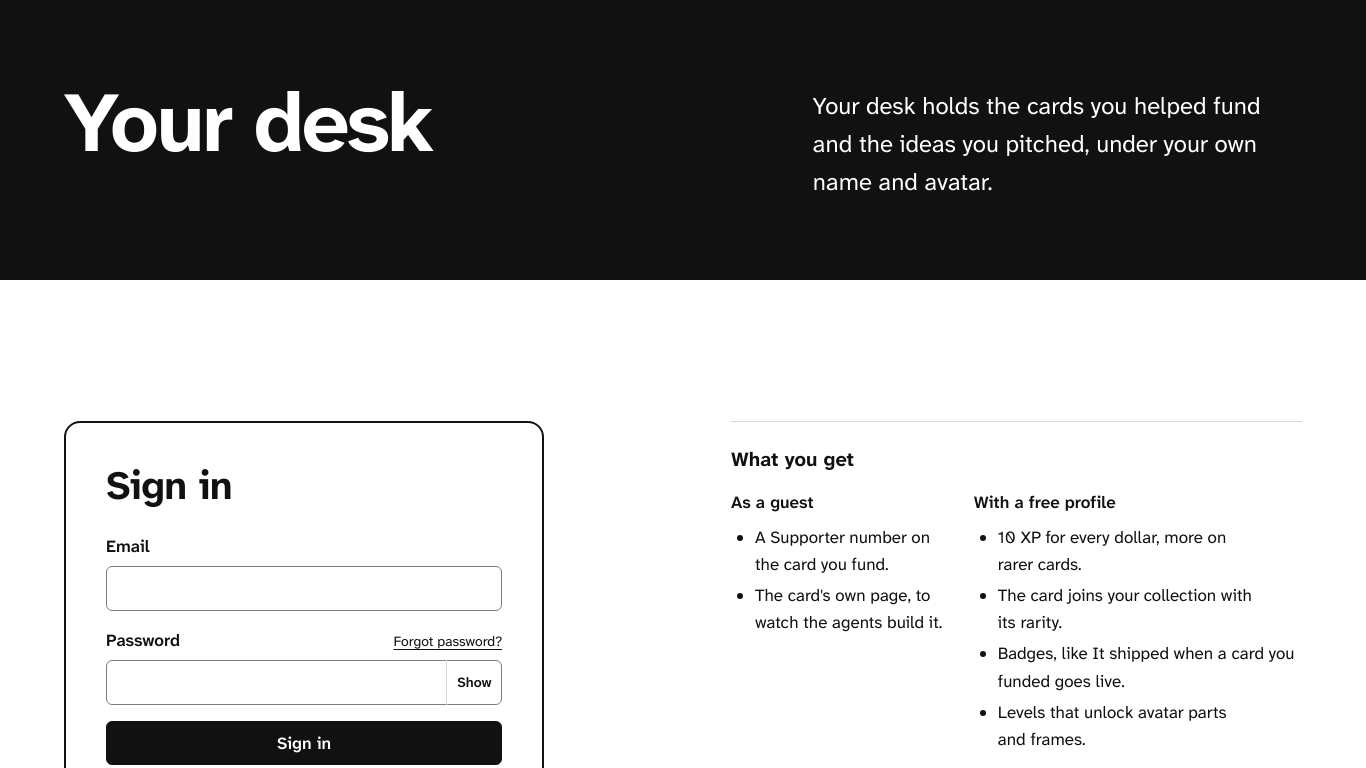
/me › says to wait a minute when sign-in emails are rate limited
The image size is (1366, 768).
In the field labelled "Email": (304, 588) x1=106 y1=566 x2=502 y2=611, type "player@example.com"
(page scrolled)
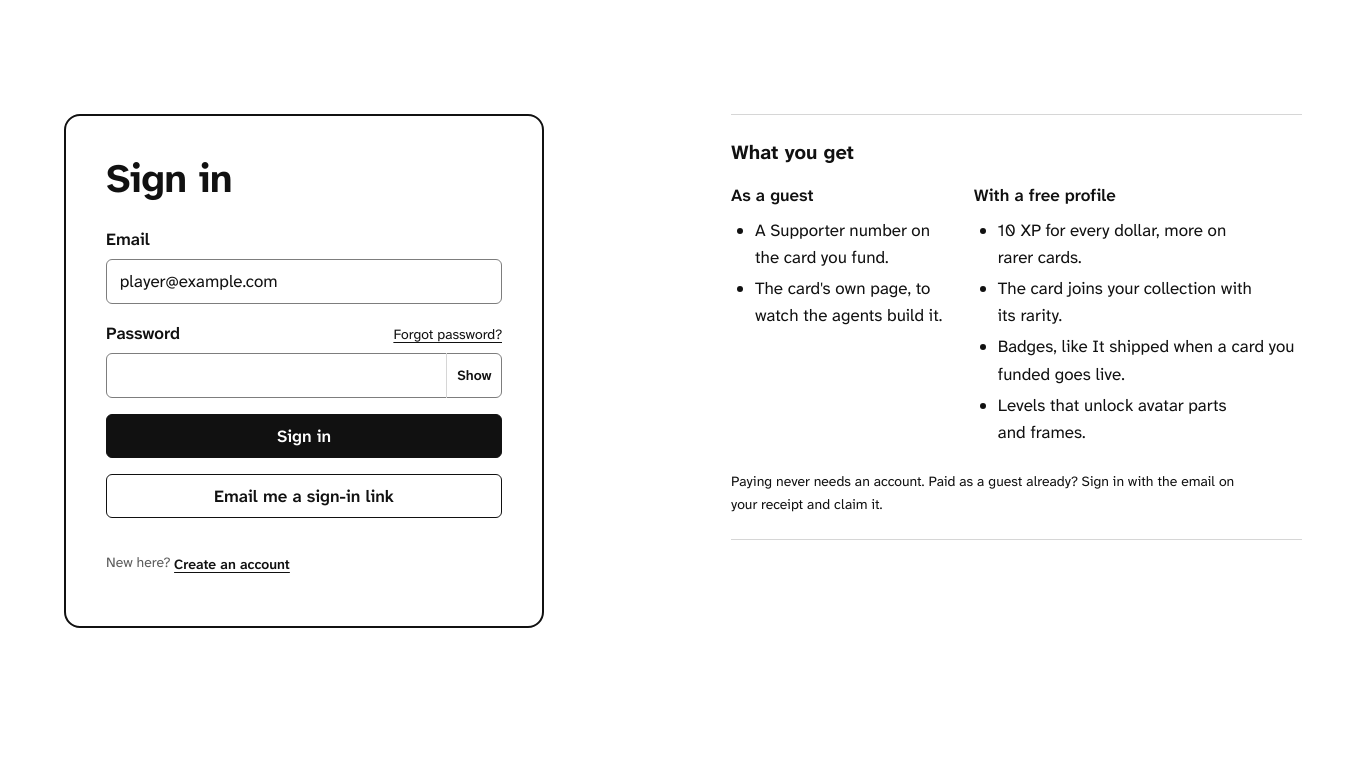
Click the button "Email me a sign-in link": (304, 496) x1=106 y1=474 x2=502 y2=518
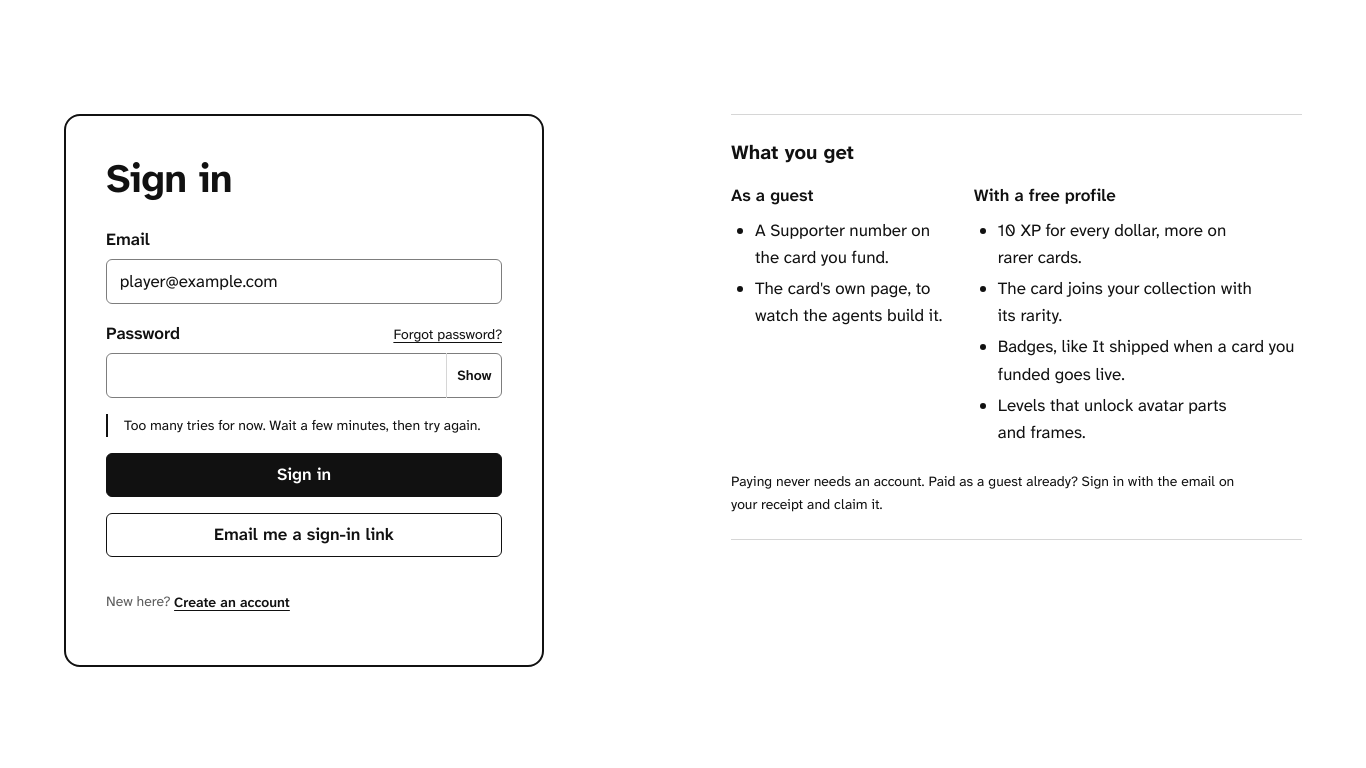
Check: the text "Too many tries for now. Wait a few minutes, then try again." is shown, box x1=124 y1=414 x2=502 y2=437
